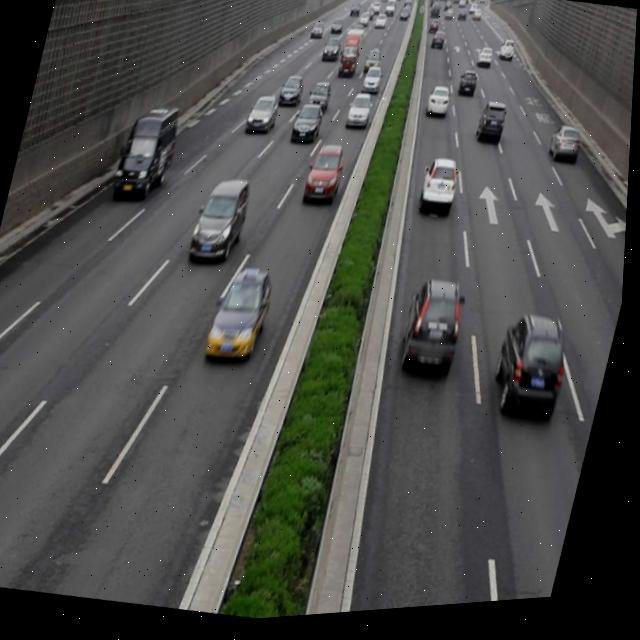car: (490, 316, 580, 433), (398, 281, 474, 389), (204, 264, 281, 370), (303, 143, 351, 213), (418, 159, 465, 220), (475, 104, 511, 152), (548, 129, 585, 175), (291, 104, 326, 150), (246, 96, 282, 140), (347, 95, 376, 136), (425, 88, 454, 125), (278, 77, 306, 114), (307, 83, 335, 120), (458, 75, 481, 105), (361, 70, 384, 100)
truck: (110, 100, 187, 209), (188, 176, 257, 271)
